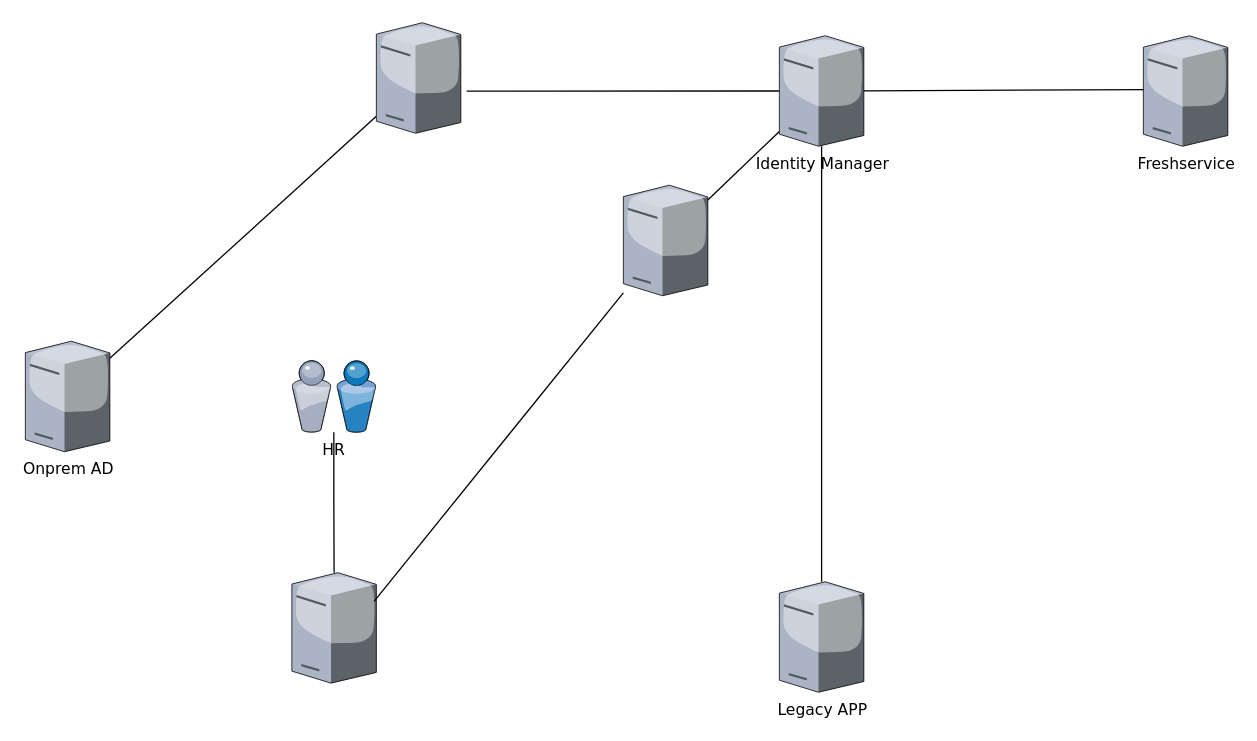
This 1257x741 diagram has some shape labels left out. The centre of each missing label's shape, as x and y in pixels:
Azure AD: [418,77]
Starling Connect: [665,240]
Successfactors: [333,627]
